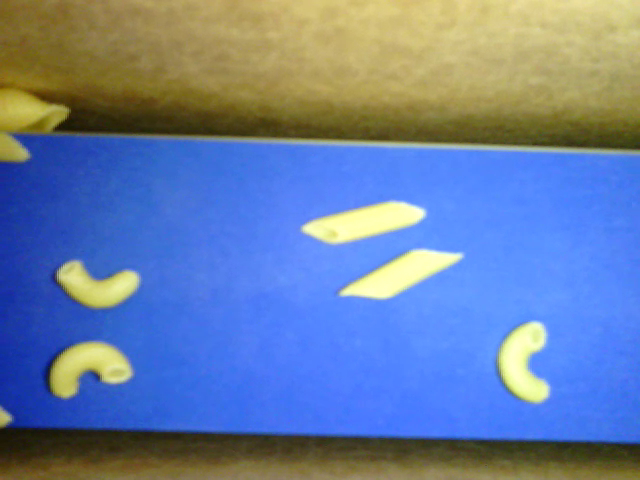elbow: (47, 336, 131, 401), (492, 320, 551, 406), (51, 256, 141, 310)
penne: (334, 246, 464, 300), (298, 197, 425, 248)
shell: (1, 82, 71, 132)
